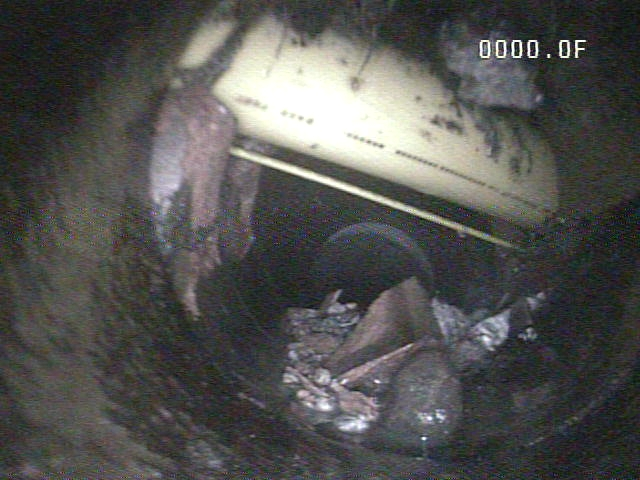cb: (131, 2, 597, 244), (187, 126, 537, 258)
